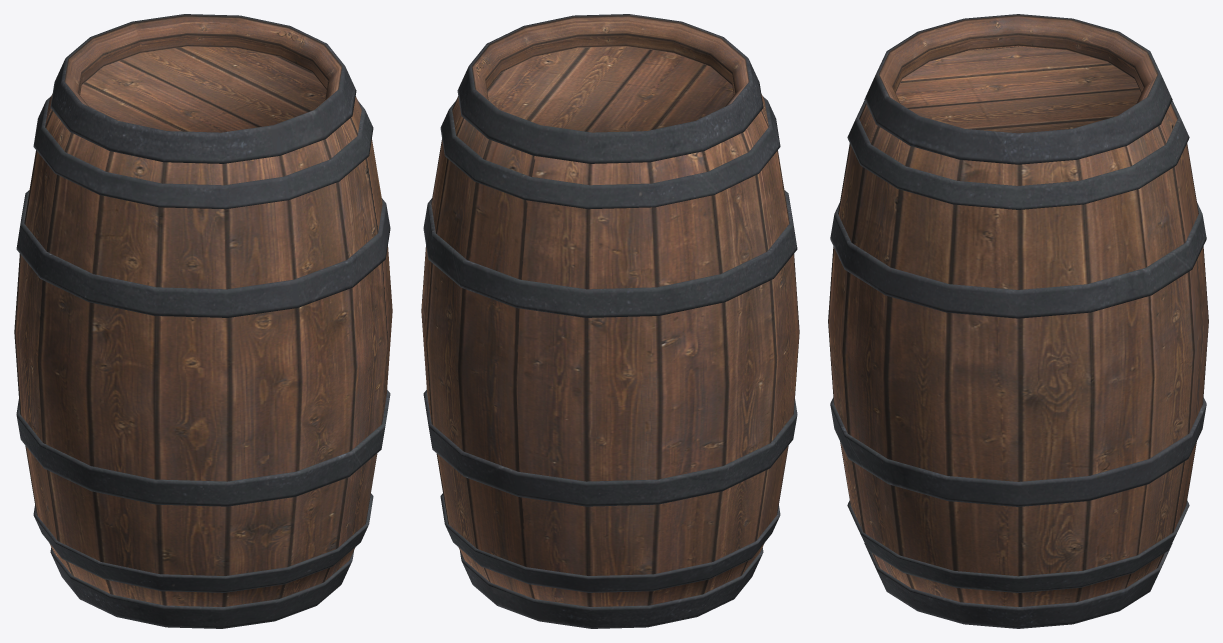
The model's file is barrel.glb.
The picture shows the model from 3 angles, left to right: view 1: azimuth 30°, elevation 25°; view 2: azimuth 150°, elevation 25°; view 3: azimuth 270°, elevation 25°; orthographic projection.
Visible parts, largest first — view 1: wooden_barrel; view 2: wooden_barrel; view 3: wooden_barrel.
Part boxes in pixels (x1,y1,x2,y2): wooden_barrel: (14,14,392,628); wooden_barrel: (421,14,799,628); wooden_barrel: (828,14,1208,628).
Bounding box in the file's own units: 2.72 × 3.9 × 2.72.
1 material, 1 textured.
